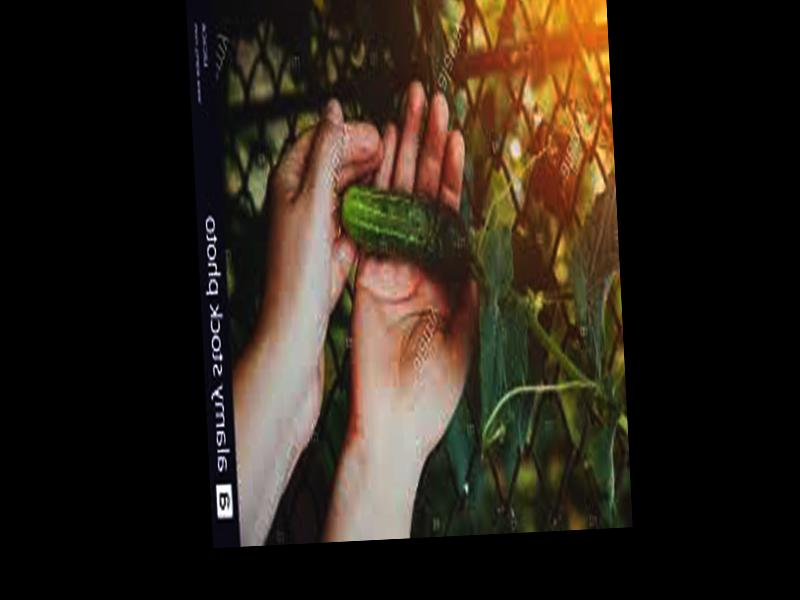Cucumber: (337, 177, 470, 284)
